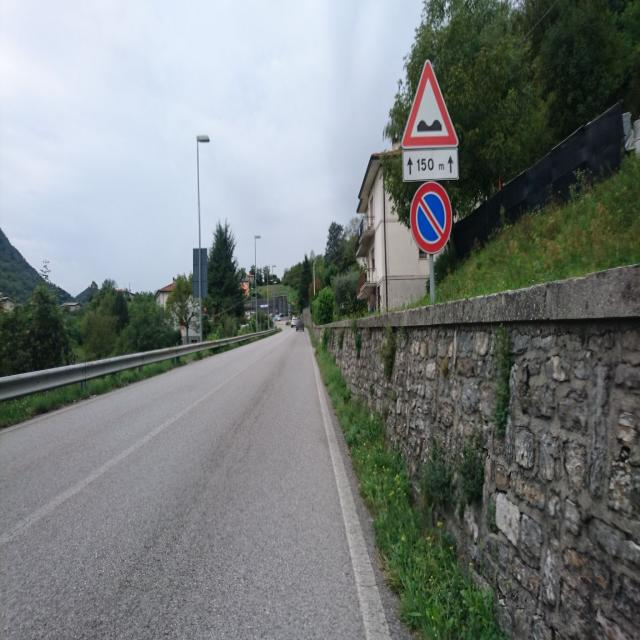forb_stopping: (410, 181, 452, 255)
